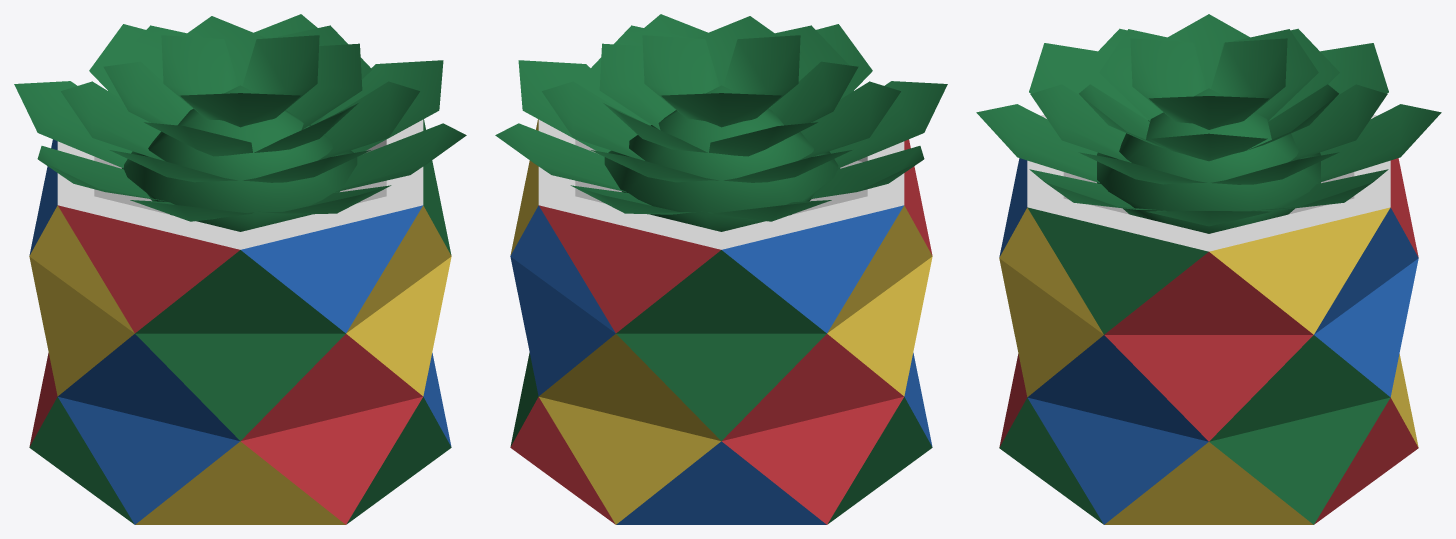
File: Sketchfab_2018_11_26_18_29_57.fbx
3 renders of one model, left to right at view 1: azimuth 30°, elevation 25°; view 2: azimuth 150°, elevation 25°; view 3: azimuth 270°, elevation 25°, orthographic.
Visible parts, largest first — view 1: Vase, Petals.004, Flower, Petals.003, Petals.002, Petals.001; view 2: Vase, Petals.004, Flower, Petals.003, Petals.002, Petals.001; view 3: Vase, Petals.004, Flower, Petals.003, Petals.001, Petals.002.
Part boxes in pixels (x1,y1,x2,y2): Vase: [29, 119, 451, 524]; Petals.004: [14, 14, 466, 221]; Flower: [122, 85, 357, 231]; Petals.003: [61, 25, 419, 182]; Petals.002: [103, 16, 362, 156]; Petals.001: [161, 35, 319, 127]; Vase: [510, 119, 932, 524]; Petals.004: [495, 14, 947, 221]; Flower: [604, 85, 839, 231]; Petals.003: [542, 25, 900, 182]; Petals.002: [599, 16, 858, 156]; Petals.001: [642, 35, 800, 127]; Vase: [999, 114, 1418, 524]; Petals.004: [976, 14, 1441, 226]; Flower: [1097, 88, 1320, 233]; Petals.003: [1030, 28, 1387, 184]; Petals.001: [1130, 38, 1287, 129]; Petals.002: [1079, 29, 1338, 161].
Size of the model in its own units: 18.8 by 17.4 by 18.8.
